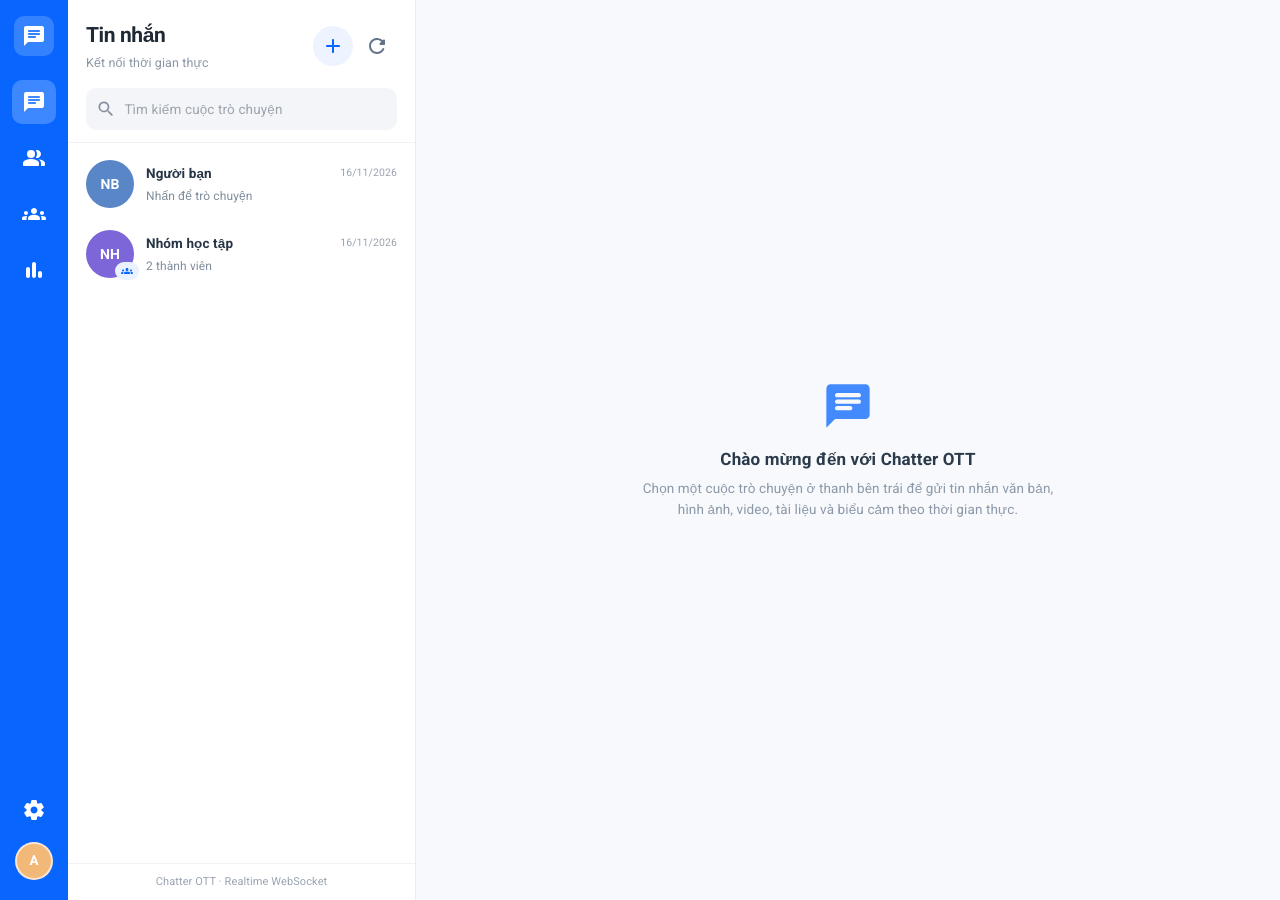
it: loads real conversations and filters between direct chats and groups
Expected: the button with aria-label "Mở cuộc trò chuyện Người bạn" is shown, [76,149,407,219]
Expected: the button with aria-label "Mở cuộc trò chuyện Nhóm học tập" is shown, [76,219,407,288]
Click the button named "Danh bạ" at (34, 158), box [12,136,56,180]
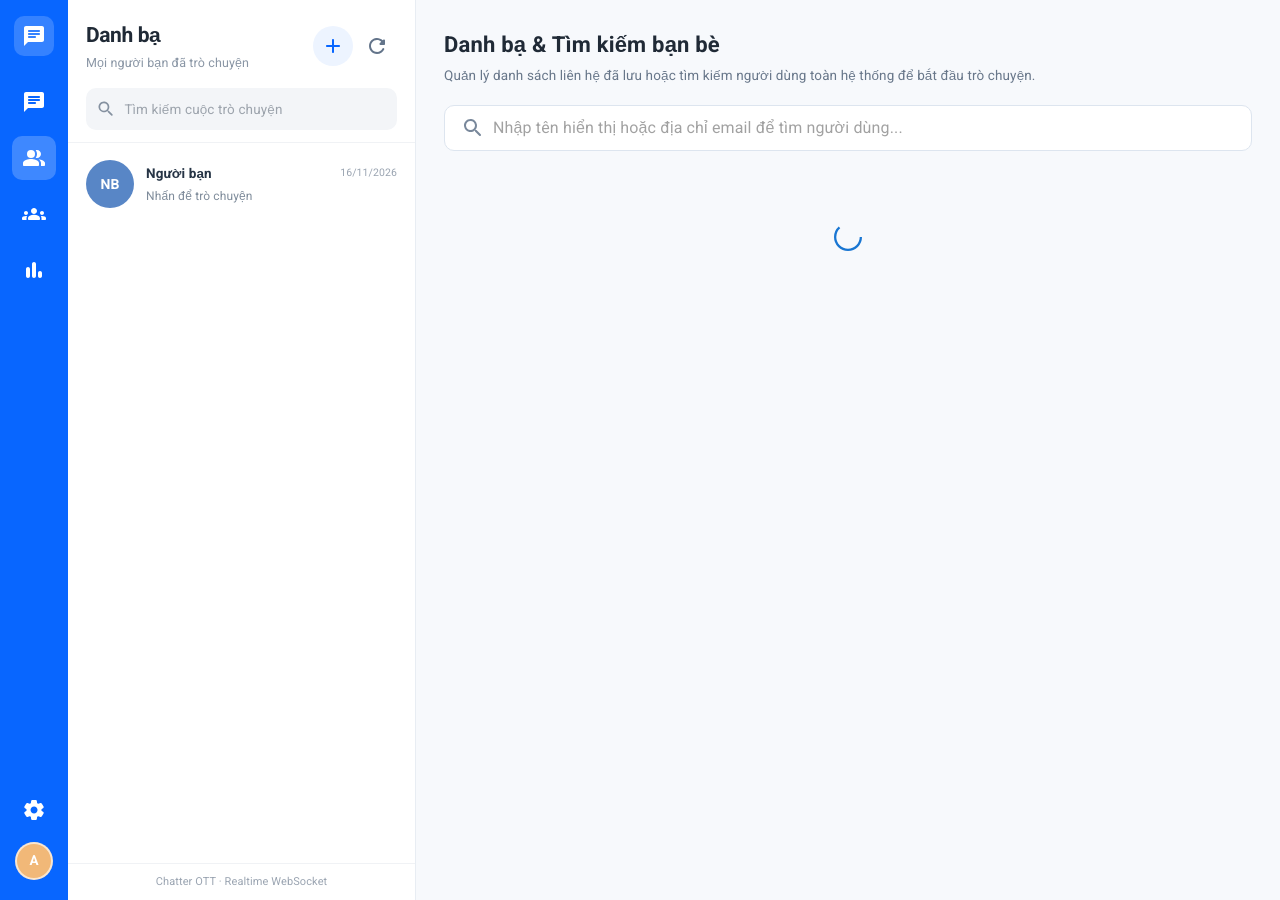
Expected: the button with aria-label "Mở cuộc trò chuyện Người bạn" is shown, [76,149,407,219]
Click the button named "Nhóm" at (34, 214), box [12,192,56,236]
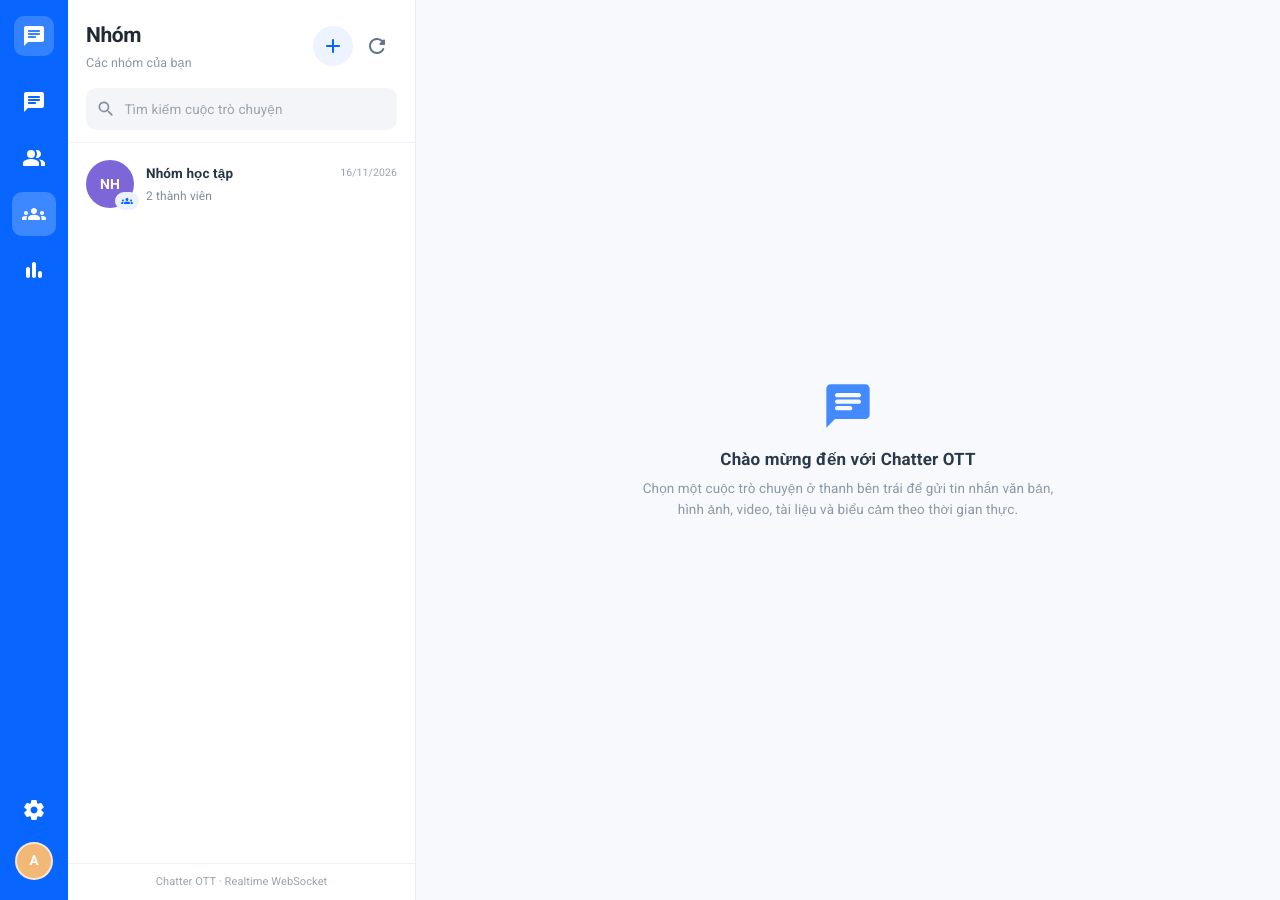
Result: the button with aria-label "Mở cuộc trò chuyện Nhóm học tập" is shown at [76,149,407,219]
